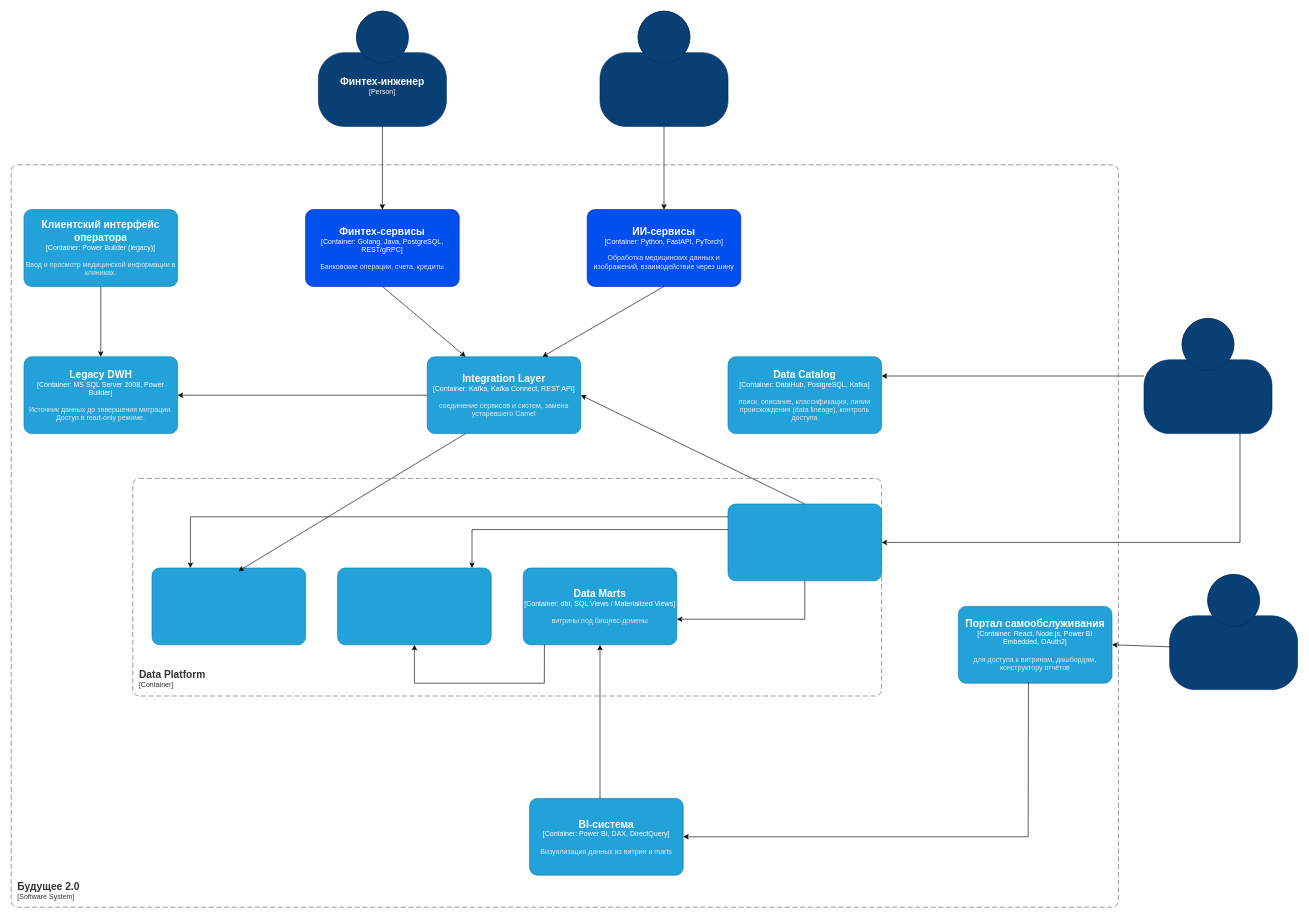
Some shapes in this 1309 by 918 pixel diagram are drawn without their labels. The shapes that lost their labels are listed below. From the top down, each one's centre as x and y in pixels, then its label:
(x=663, y=68): ИИ-инженер [Person]
(x=1207, y=376): Дата-ниженер [Person]
(x=804, y=542): Data Processing [Container: Spark, Python, dbt, Airflow] ETL/ELT, транформация
(x=228, y=606): Data Lake [Container: S3 / ADLS + Parquet / JSON]
(x=414, y=606): DWH [Container: Snowflake / BigQuery / ClickHouse]
(x=1233, y=632): Бизнес-пользователь [Person] аналитик, менеджер и т.п.
